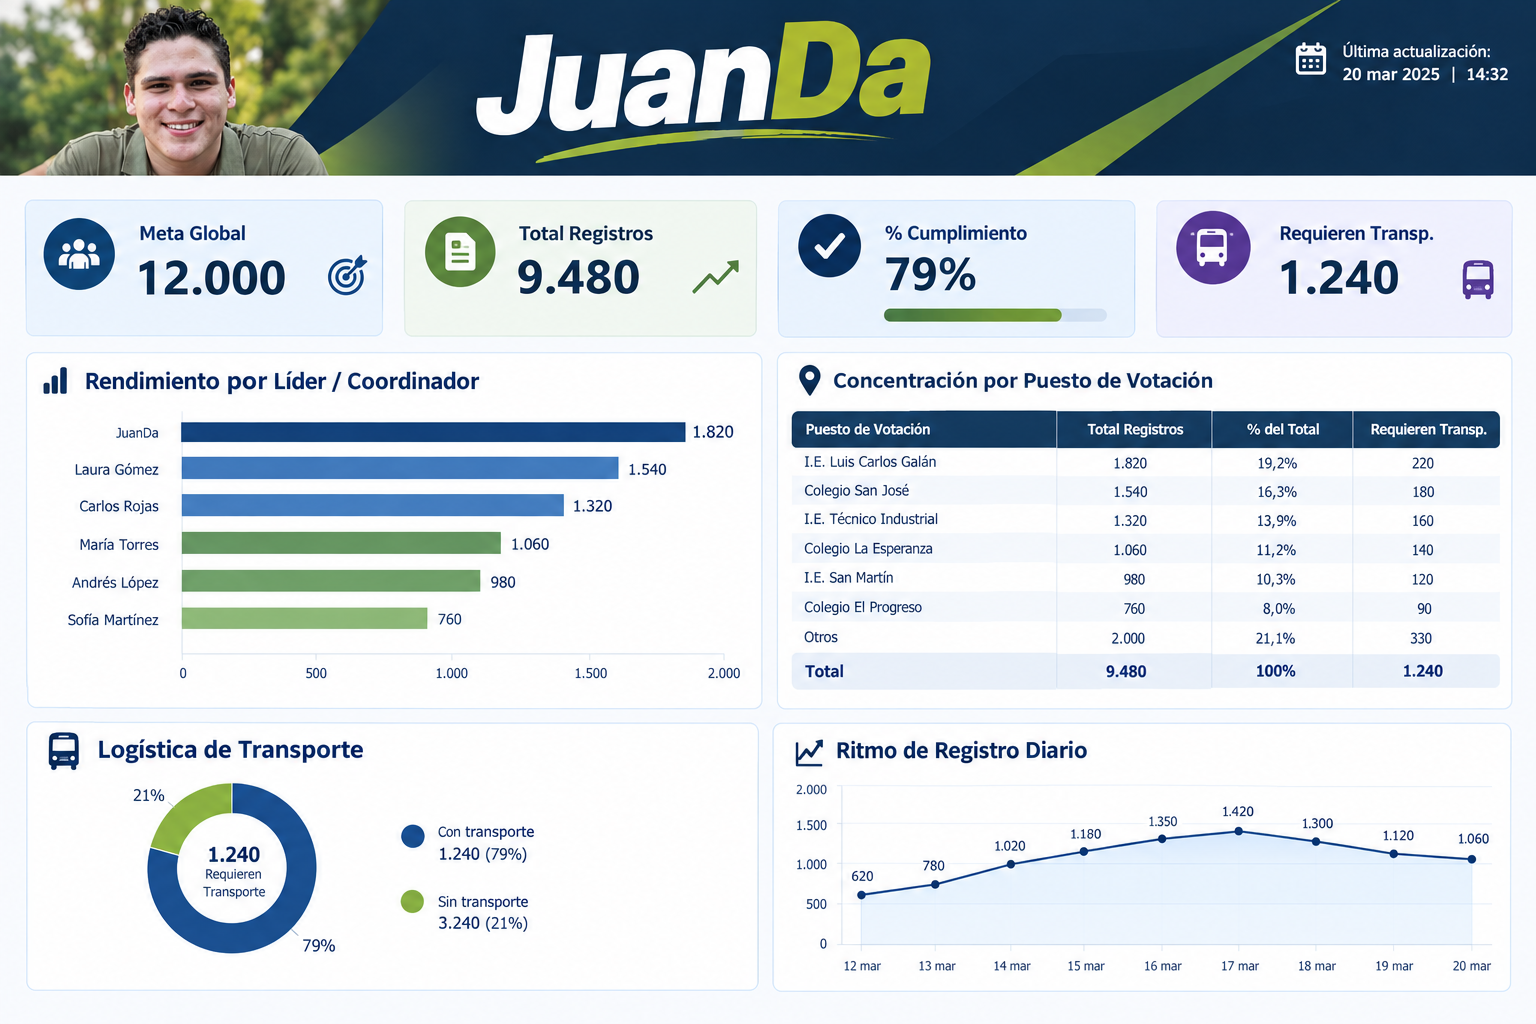

What the dashboard file says about the page in this screenshot:
{"tool":"powerbi","page":{"name":"Resumen ejecutivo","canvas":[1280,720],"ordinal":0},"visuals":[{"type":"advanceCardE03760C5AB684758B56AA29F9E6C257B","title":"Meta global","fields":{"mainMeasure":["Medidas.Meta global"]},"box":[107.8,182.9,201.1,95.7],"z":0},{"type":"image","box":[34.9,189.5,145.3,75.1],"z":1000},{"type":"advanceCardE03760C5AB684758B56AA29F9E6C257B","title":"Total registros","fields":{"mainMeasure":["Medidas.Total registros"]},"box":[414.2,182.9,201.1,95.7],"z":2000},{"type":"advanceCardE03760C5AB684758B56AA29F9E6C257B","title":"% Cumplimiento ","fields":{"mainMeasure":["Medidas.% cumplimiento global"]},"box":[735.2,182.9,201.1,95.7],"z":3000},{"type":"advanceCardE03760C5AB684758B56AA29F9E6C257B","title":"Requieren transporte","fields":{"mainMeasure":["Medidas.Requieren transporte"]},"box":[1055,182.9,201.1,95.7],"z":4000},{"type":"image","box":[341.6,193.8,129.6,66.6],"z":5000},{"type":"image","box":[639.5,193.8,145.3,75.1],"z":6000},{"type":"image","box":[969,190.2,145.3,75.1],"z":7000},{"type":"clusteredBarChart","title":"Rendimiento por líder / coordinador","fields":{"Category":["Respuestas.Líder"],"Y":["Medidas.Total registros"]},"box":[35.1,312.5,563.2,216.8],"z":8000},{"type":"tableEx","title":"Concentración por puesto de votación","fields":{"Values":["Respuestas.Puesto_Final","Respuestas.Comuna de votación","Medidas.Total registros","Divide(Medidas.Total registros, ScopedEval(Medidas.Total registros, []))","Medidas.Requieren transporte"]},"box":[653.5,313,582.6,216.4],"z":9000},{"type":"donutChart","title":"Logística Transporte","fields":{"Category":["Respuestas.¿Requiere transporte?"],"Y":["Medidas.Total registros"]},"box":[34.9,560.5,562.8,147.7],"z":10000},{"type":"lineChart","title":"Ritmo de registro","fields":{"Category":["Respuestas.Fecha_hora.Variación.Jerarquía de fechas.Mes","Respuestas.Fecha_hora.Variación.Jerarquía de fechas.Día"],"Y":["Medidas.Total registros"]},"box":[661.6,558.1,574.4,150],"z":11000}]}

Visuals, with their boxes on the page's 1280x720 design canvas (x1, y1, x2, y2). These are canvas units, not pixel positions in the 1536x1024 screenshot, which may show the page scaled, cropped or inside an application window:
"Meta global" advanceCardE03760C5AB684758B56AA29F9E6C257B: [108, 183, 309, 279]
image: [35, 190, 180, 265]
"Total registros" advanceCardE03760C5AB684758B56AA29F9E6C257B: [414, 183, 615, 279]
"% Cumplimiento " advanceCardE03760C5AB684758B56AA29F9E6C257B: [735, 183, 936, 279]
"Requieren transporte" advanceCardE03760C5AB684758B56AA29F9E6C257B: [1055, 183, 1256, 279]
image: [342, 194, 471, 260]
image: [640, 194, 785, 269]
image: [969, 190, 1114, 265]
"Rendimiento por líder / coordinador" clusteredBarChart: [35, 312, 598, 529]
"Concentración por puesto de votación" tableEx: [654, 313, 1236, 529]
"Logística Transporte" donutChart: [35, 560, 598, 708]
"Ritmo de registro" lineChart: [662, 558, 1236, 708]
